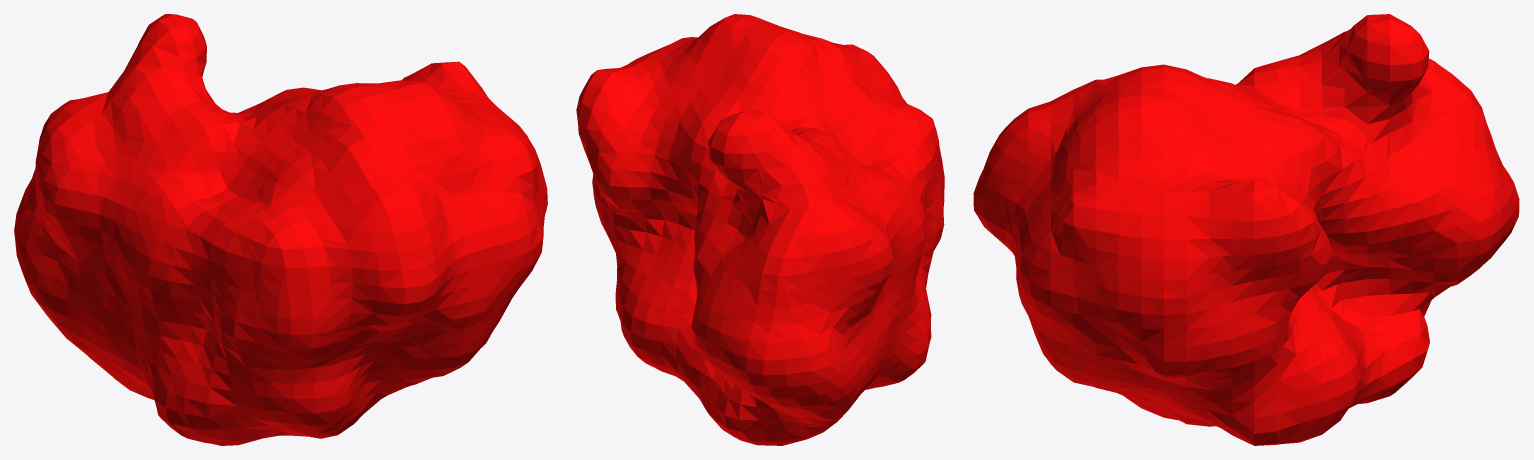
The model's file is rfbD_coarse.dae.
The picture shows the model from 3 angles, left to right: view 1: azimuth 30°, elevation 25°; view 2: azimuth 150°, elevation 25°; view 3: azimuth 270°, elevation 25°; orthographic projection. The views are drawn at different scales.
Parts seen in each view (by area): view 1: rfbD; view 2: rfbD; view 3: rfbD.
Boxes of the visible parts, x1,y1,x2,y2 form: rfbD: [14, 14, 547, 445]; rfbD: [576, 14, 944, 445]; rfbD: [973, 14, 1519, 445].
Bounding box in the file's own units: 54.34 × 47.52 × 61.03.
